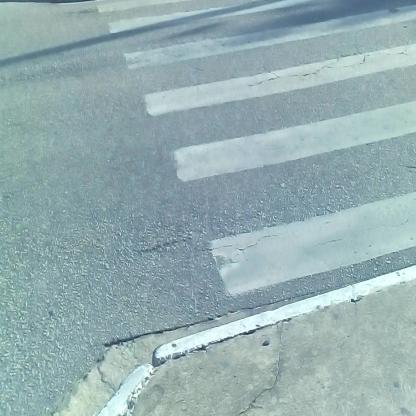crosswalk: (94, 6, 416, 297)
